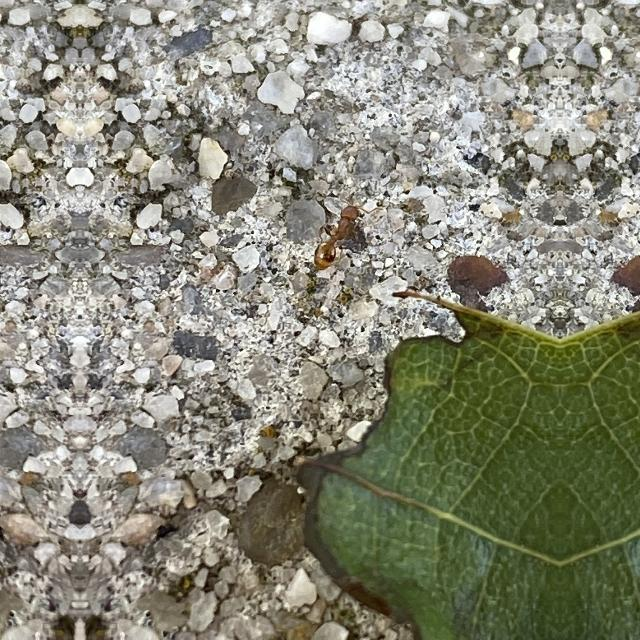Temnothorax: (288, 196, 376, 264)
